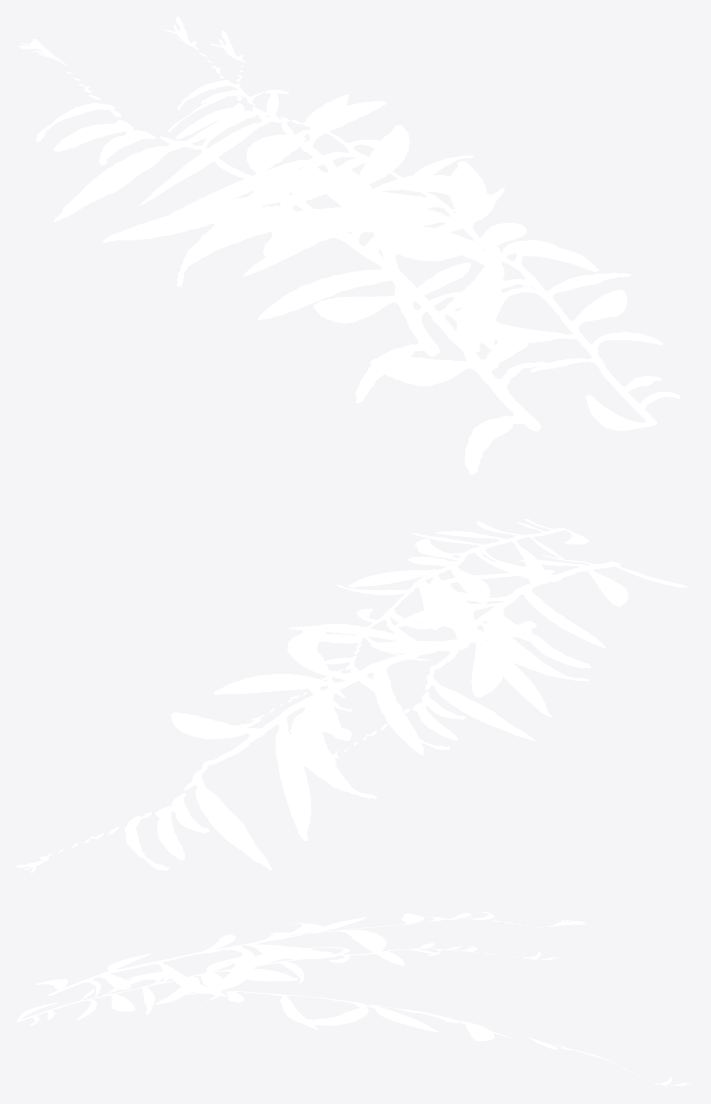
3 renders of one model, top to bottom at view 1: azimuth 30°, elevation 25°; view 2: azimuth 150°, elevation 25°; view 3: azimuth 270°, elevation 25°, orthographic. The views are drawn at different scales.
Parts seen in each view (by area): view 1: SM_BM_Climbing_A_06_LOD0; view 2: SM_BM_Climbing_A_06_LOD0; view 3: SM_BM_Climbing_A_06_LOD0.
Boxes of the visible parts, x1=… form: SM_BM_Climbing_A_06_LOD0: x1=18, y1=16, x2=680, y2=474; SM_BM_Climbing_A_06_LOD0: x1=16, y1=519, x2=687, y2=873; SM_BM_Climbing_A_06_LOD0: x1=17, y1=911, x2=691, y2=1085.
Bounding box in the file's own units: 0.9287 × 0.3733 × 2.04.
Materials: 1 (1 with a texture image).
